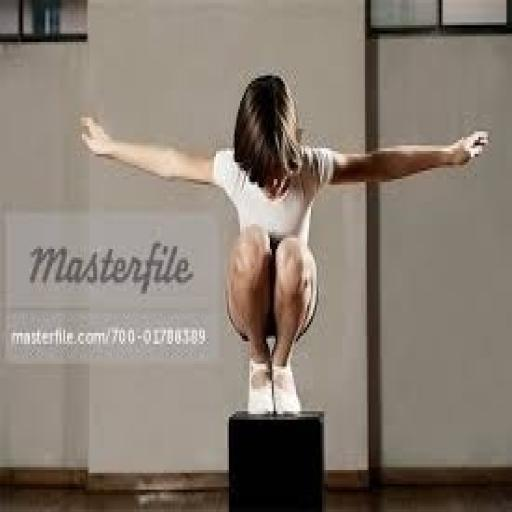dancing: (76, 70, 492, 420)
